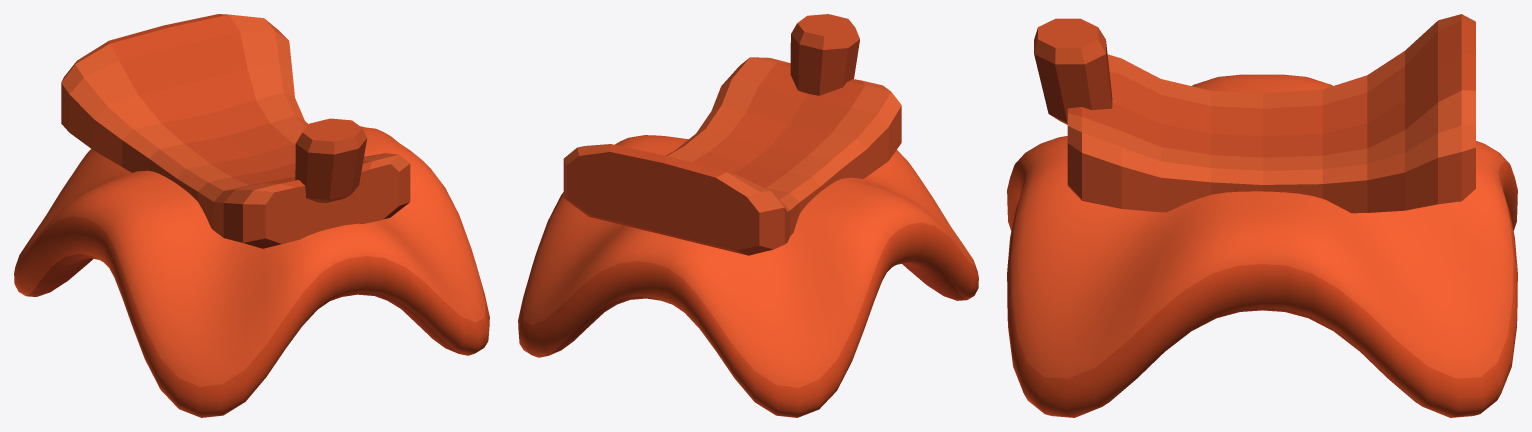
File: boar_saddle.glb
The picture shows the model from 3 angles, left to right: view 1: azimuth 30°, elevation 25°; view 2: azimuth 150°, elevation 25°; view 3: azimuth 270°, elevation 25°; orthographic projection. The views are drawn at different scales.
Parts seen in each view (by area): view 1: Гранёное арочное основание, Сиденье и задняя лука, Передняя лука; view 2: Гранёное арочное основание, Сиденье и задняя лука, Передняя лука; view 3: Гранёное арочное основание, Сиденье и задняя лука, Передняя лука.
Boxes of the visible parts, box(x1,y1,x2,y2) form: Гранёное арочное основание: box(14, 126, 489, 417); Сиденье и задняя лука: box(61, 14, 410, 248); Передняя лука: box(295, 118, 367, 202); Гранёное арочное основание: box(518, 135, 978, 417); Сиденье и задняя лука: box(563, 57, 901, 255); Передняя лука: box(790, 14, 859, 95); Гранёное арочное основание: box(1007, 74, 1517, 417); Сиденье и задняя лука: box(1067, 14, 1475, 213); Передняя лука: box(1034, 18, 1112, 124).
Size of the model in its own units: 0.9676 by 0.6918 by 1.06.
